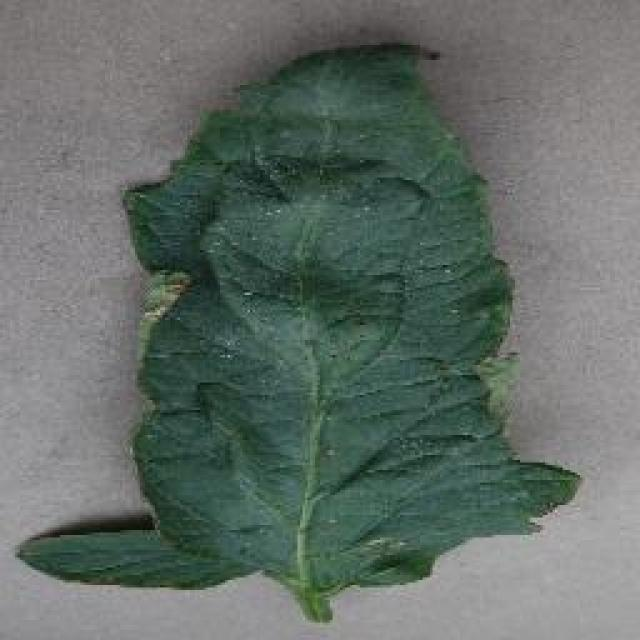Tomato___Bacterial_spot: (8, 39, 586, 623)
